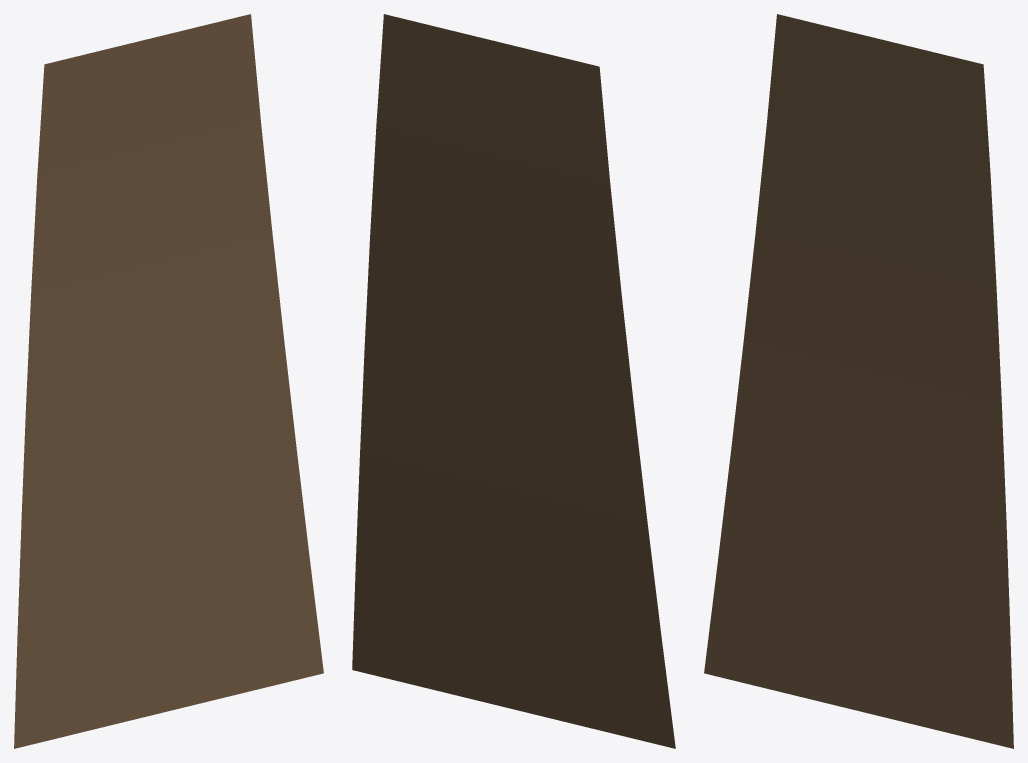
File: cape.glb
The picture shows the model from 3 angles, left to right: view 1: azimuth 30°, elevation 25°; view 2: azimuth 150°, elevation 25°; view 3: azimuth 330°, elevation 25°; orthographic projection. The views are drawn at different scales.
Visible parts, largest first — view 1: Cape; view 2: Cape; view 3: Cape.
Boxes of the visible parts, bbox=[...] form: Cape: bbox=[14, 14, 323, 748]; Cape: bbox=[352, 14, 675, 748]; Cape: bbox=[704, 14, 1013, 748].
Size of the model in its own units: 0.42 by 0.85 by 0.05.
